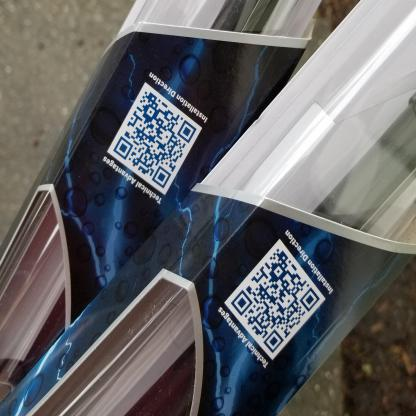qr: (228, 244, 325, 358), (112, 86, 199, 193)
